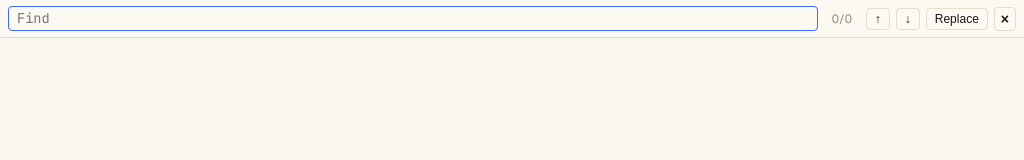
Scenario: SearchBar › toggles replace row when Replace button clicked
This screenshot has width=1024, height=160.
Click the button with test id "toggle-replace".
click(957, 18)  # box [926, 8, 988, 30]
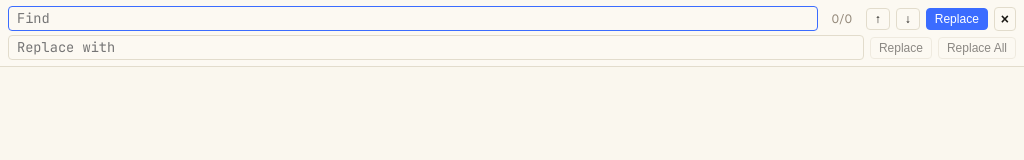
Expected: the field with test id "replace-input" is shown, [8, 35, 864, 60]
Click the button with test id "toggle-replace".
click(957, 18)  # box [926, 8, 988, 30]
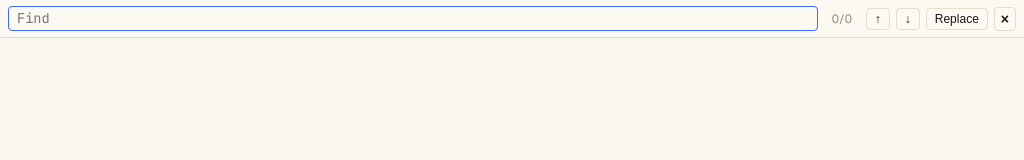
Expected: the field with test id "replace-input" is gone
